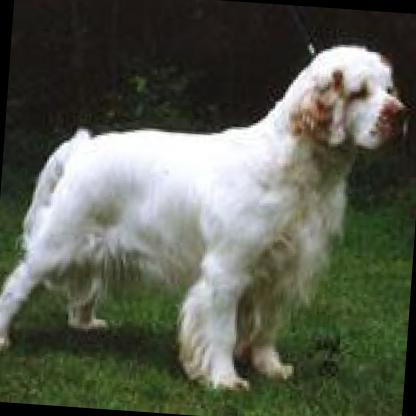clumber: (0, 17, 409, 401)
